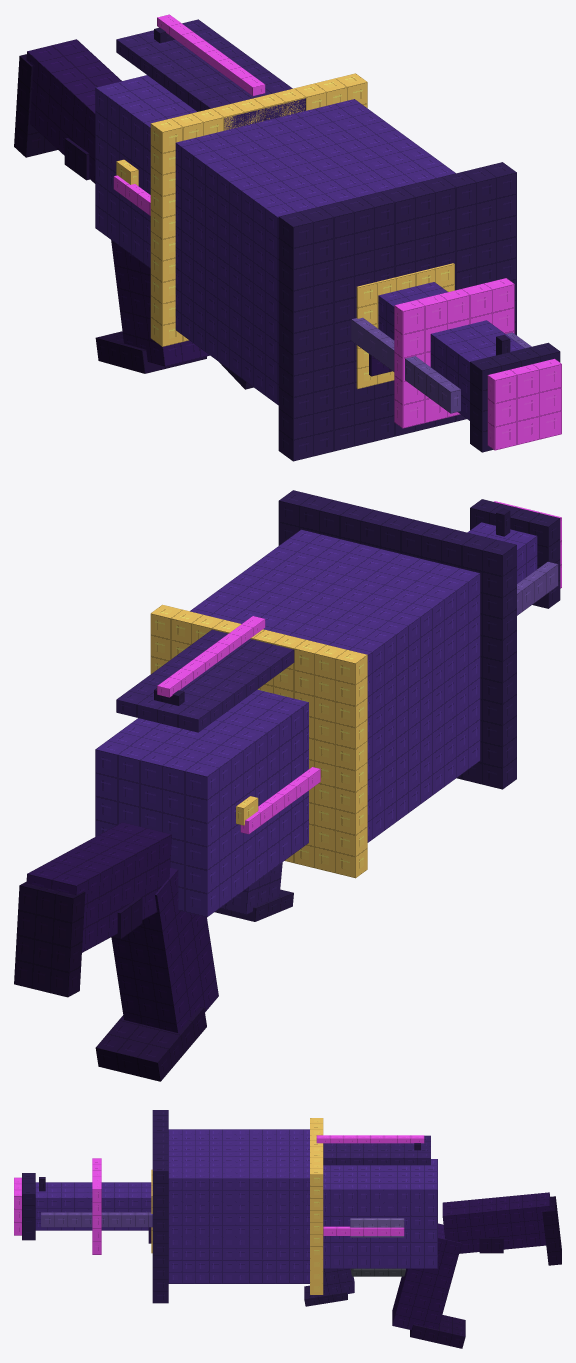
3 views of the same model, one above another, from view 1: azimuth 30°, elevation 25°; view 2: azimuth 150°, elevation 25°; view 3: azimuth 270°, elevation 25° (orthographic). The views are drawn at different scales.
Visible parts, largest first — view 1: W20; view 2: W20; view 3: W20.
Boxes of the visible parts, <box> form: W20: <box>14,14,561,461</box>; W20: <box>14,490,561,1081</box>; W20: <box>14,1110,561,1348</box>.
Size of the model in its own units: 1.08 by 1.67 by 4.07.
1 material, 1 textured.
